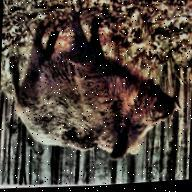boar: (0, 0, 179, 185)
